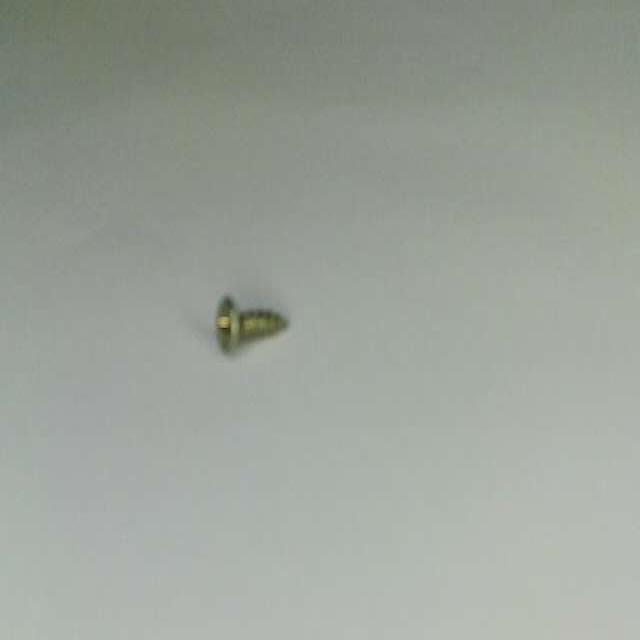Parafuso: (216, 296, 287, 352)
